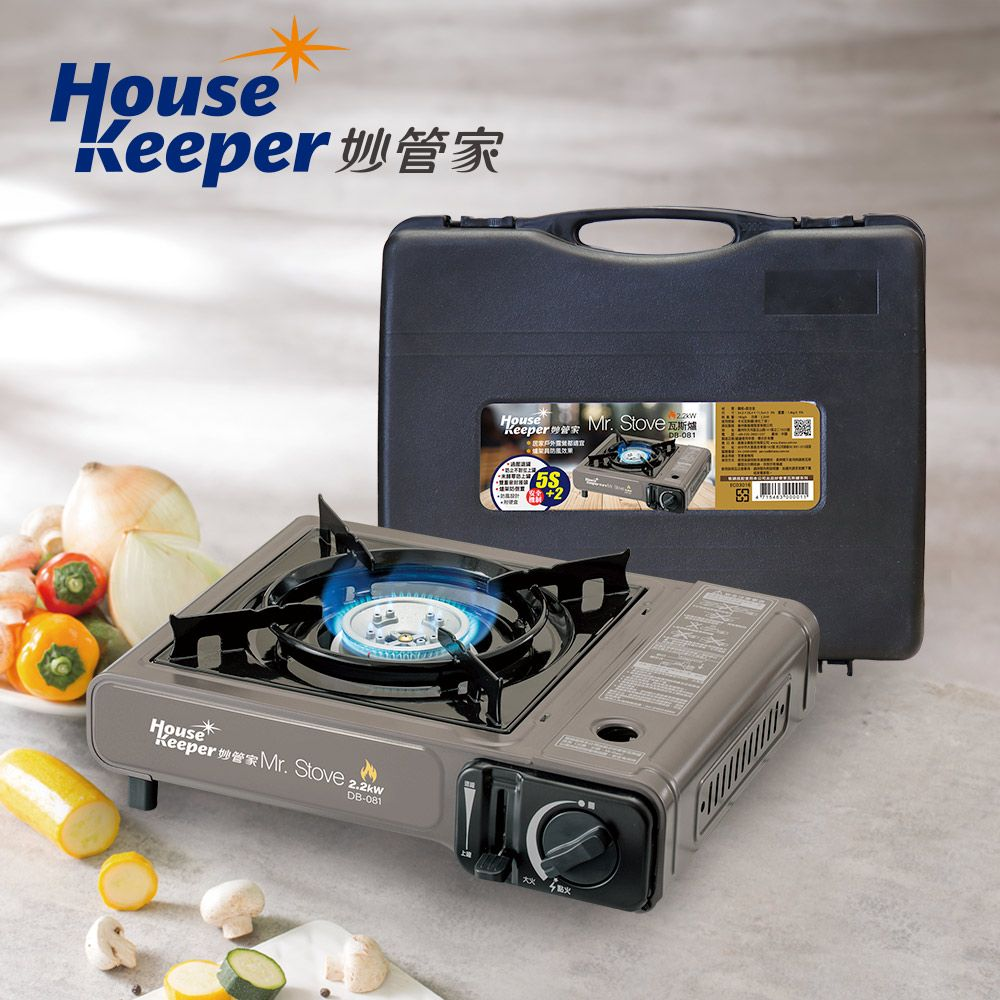gasoven: (78, 485, 826, 917)
